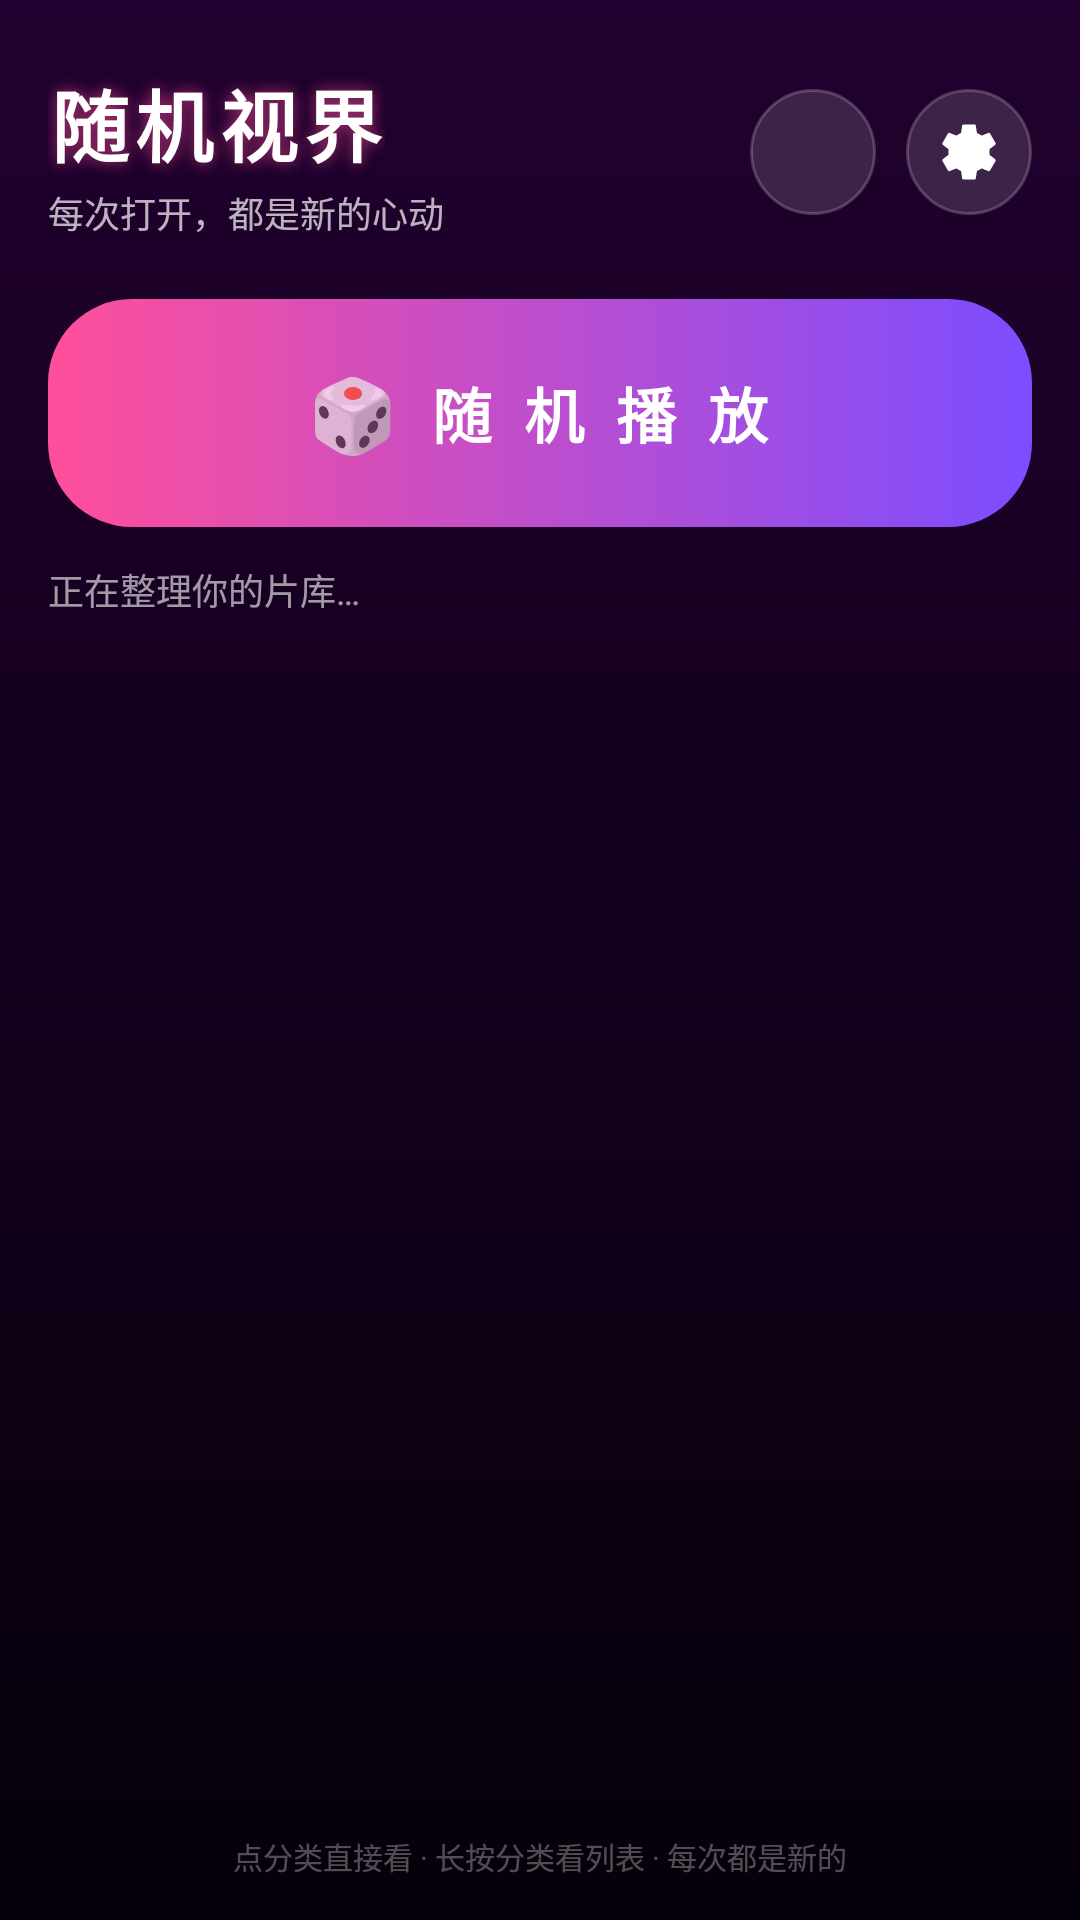

Locate icon controls on the screen. Image size 1080px x 1920px, boxes as [x1,y1,x2,y2].
设置: [906,89,1032,215]
